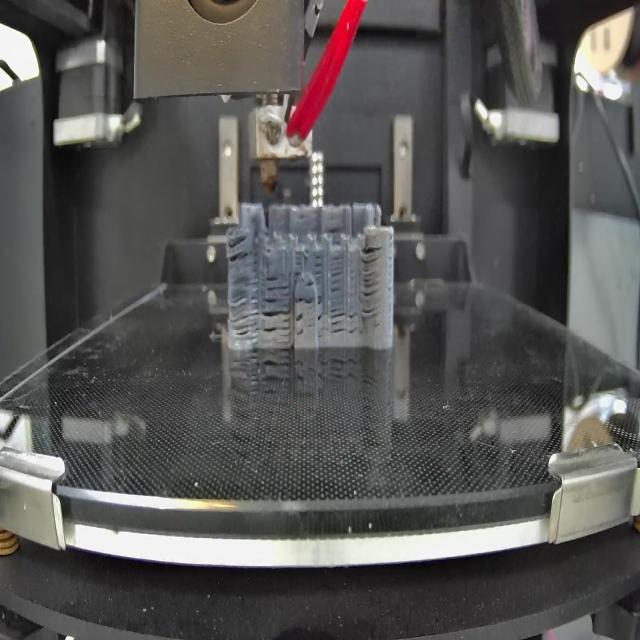cracks: (361, 245, 383, 328), (228, 293, 260, 341), (261, 273, 291, 306), (329, 305, 359, 335), (262, 310, 292, 337), (228, 235, 254, 263), (328, 255, 345, 294), (294, 294, 324, 309), (312, 252, 323, 282), (232, 276, 259, 288), (294, 248, 304, 280), (389, 235, 393, 302), (295, 314, 306, 338), (325, 226, 341, 234)
